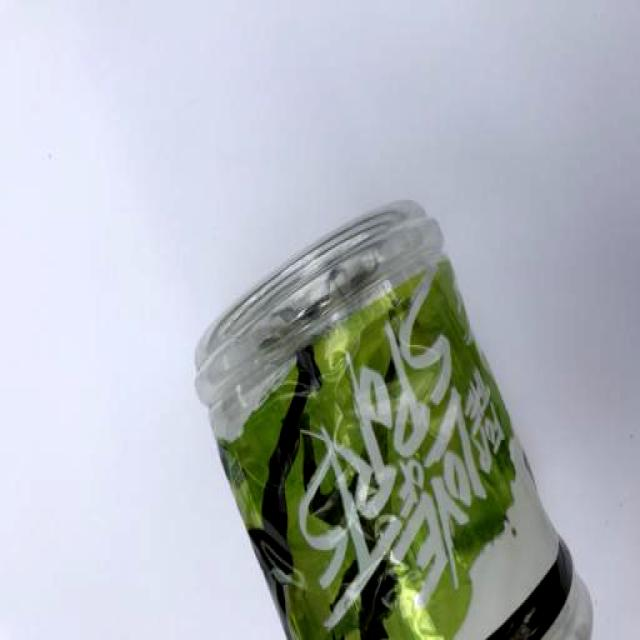Plastic: (188, 186, 615, 640)
